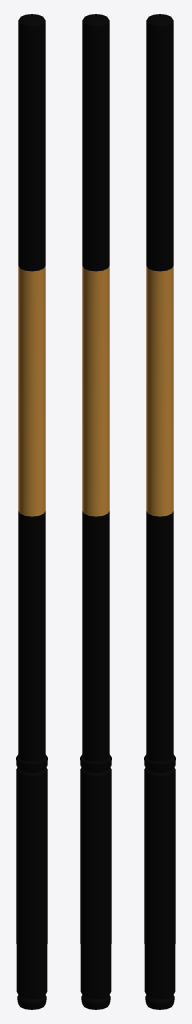
File: Sea_Mark_Cardinal_East.fbx
The picture shows the model from 3 angles, left to right: view 1: azimuth 30°, elevation 25°; view 2: azimuth 150°, elevation 25°; view 3: azimuth 330°, elevation 25°; orthographic projection.
Parts seen in each view (by area): view 1: Mdl_SeaSign_Cardinal_East; view 2: Mdl_SeaSign_Cardinal_East; view 3: Mdl_SeaSign_Cardinal_East.
Boxes of the visible parts, x1,y1,x2,y2 form: Mdl_SeaSign_Cardinal_East: (16, 14, 47, 1009); Mdl_SeaSign_Cardinal_East: (80, 14, 111, 1009); Mdl_SeaSign_Cardinal_East: (144, 14, 175, 1009).
Bounding box in the file's own units: 0.0583 × 2.01 × 0.0583.
